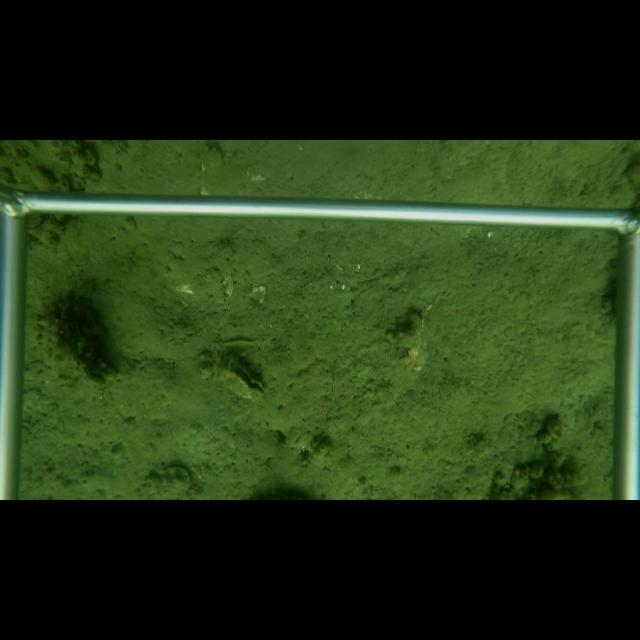Oyster-Closed: (66, 347, 105, 390), (146, 466, 195, 498)
Oyster-Open: (214, 354, 267, 401)
